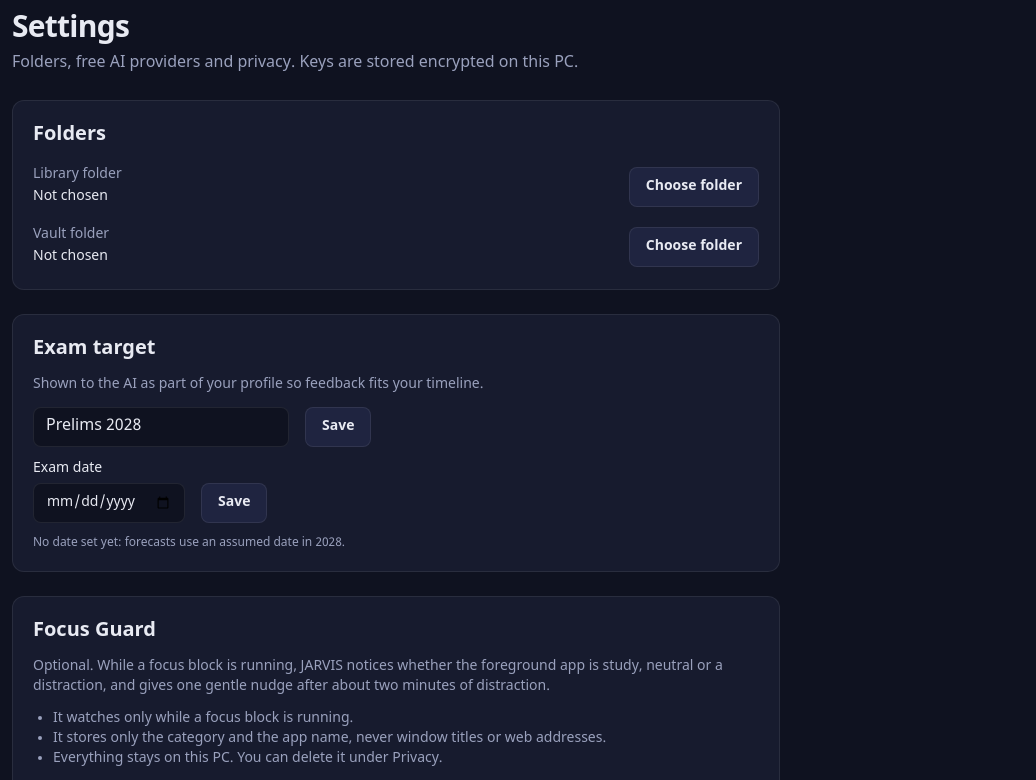
Test: Settings screen › chooses a folder with the native picker and saves it
Click the button with aria-label "choose library folder".
click(694, 187)  # box x1=629 y1=167 x2=759 y2=207
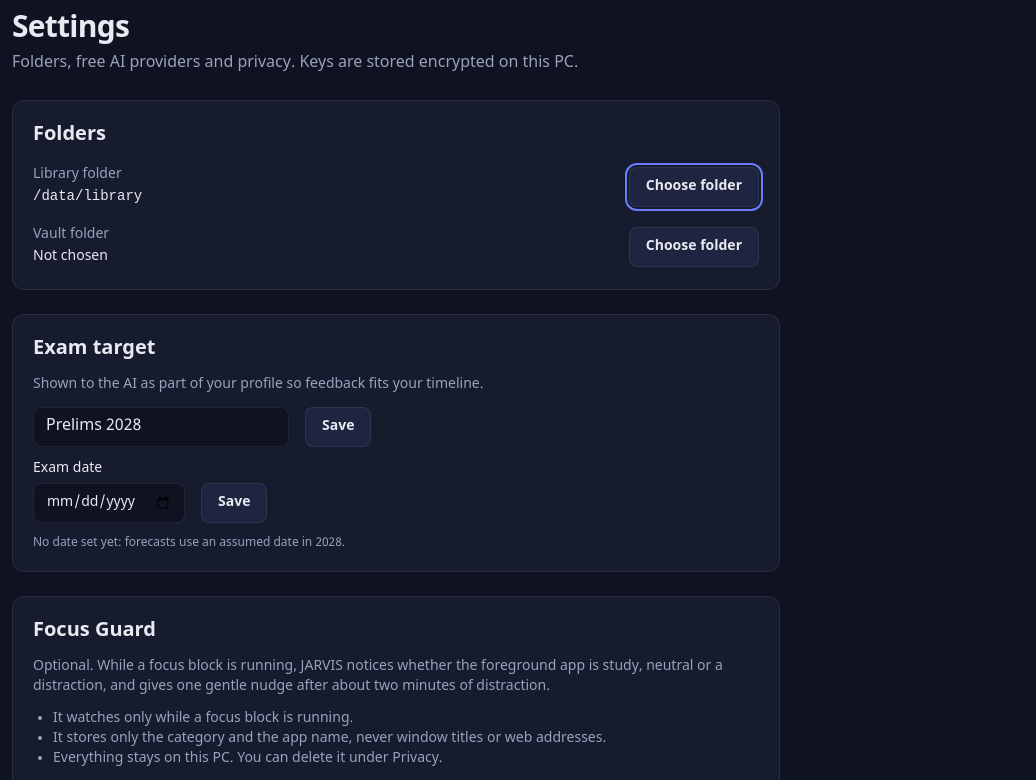
expect the text "/data/library" is shown: met, box x1=33 y1=188 x2=142 y2=204
